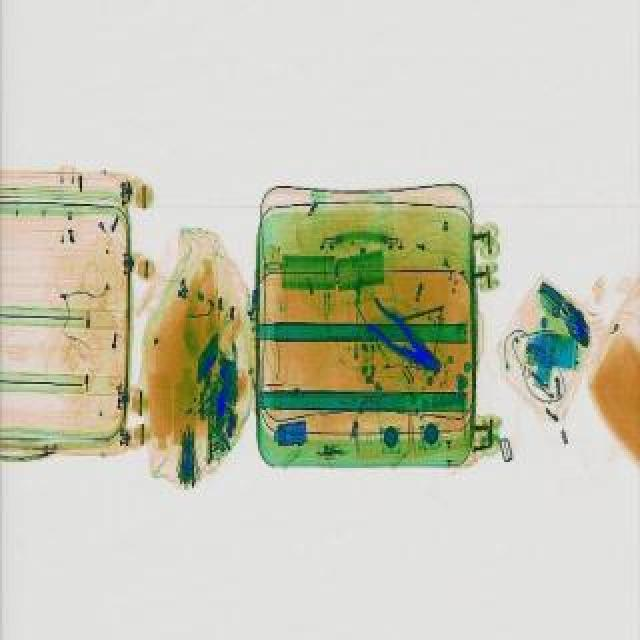wrench: (354, 294, 452, 380)
